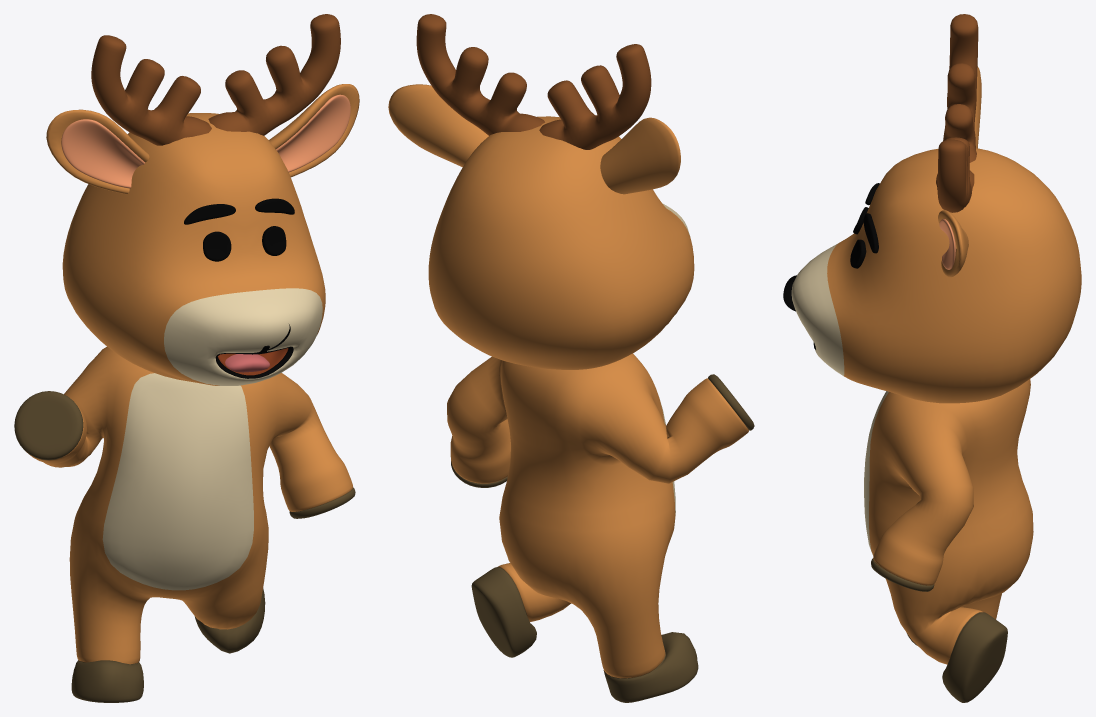
Rendered from 9eb3d4de-2abe-453e-b758-34dceef69987.glb.
The picture shows the model from 3 angles, left to right: view 1: azimuth 30°, elevation 25°; view 2: azimuth 150°, elevation 25°; view 3: azimuth 270°, elevation 25°; orthographic projection. The views are drawn at different scales.
Parts seen in each view (by area): view 1: Vert.046, Vert.041, Vert.216, Vert.218, Vert.217, Vert.040, Cube.012, Vert.001; view 2: Vert.046, Vert.041, Vert.216, Vert.217; view 3: Vert.041, Vert.046, Vert.216, Vert.217, Vert.040, Vert.218.
Part boxes in pixels (x1,y1,x2,y2): Vert.046: [14, 347, 355, 702]; Vert.041: [62, 113, 325, 385]; Vert.216: [91, 14, 340, 145]; Vert.218: [61, 94, 350, 188]; Vert.217: [46, 84, 359, 194]; Vert.040: [184, 198, 294, 261]; Cube.012: [225, 354, 270, 372]; Vert.001: [215, 345, 293, 378]; Vert.046: [447, 353, 754, 702]; Vert.041: [428, 116, 694, 369]; Vert.216: [416, 14, 651, 149]; Vert.217: [388, 84, 680, 194]; Vert.041: [791, 148, 1081, 403]; Vert.046: [864, 379, 1033, 702]; Vert.216: [936, 14, 978, 212]; Vert.217: [938, 66, 981, 277]; Vert.040: [850, 183, 879, 268]; Vert.218: [939, 219, 955, 269].
Size of the model in its own units: 1.79 by 3.17 by 1.34.
